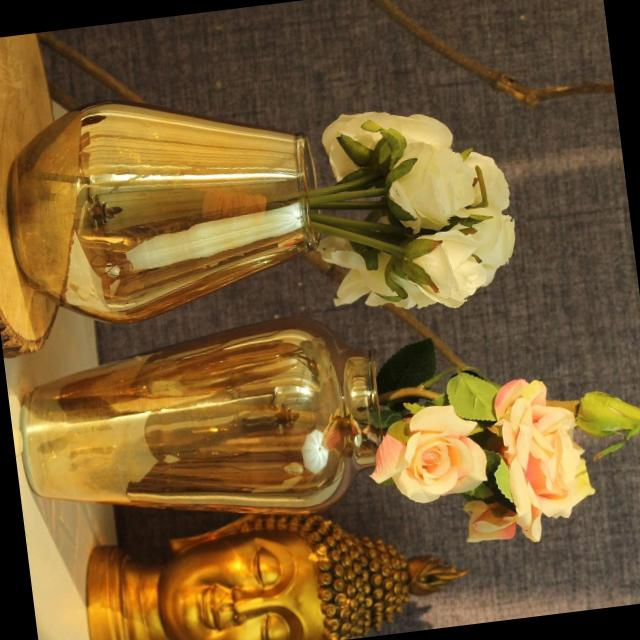glass: (0, 62, 348, 334), (3, 318, 423, 536)
